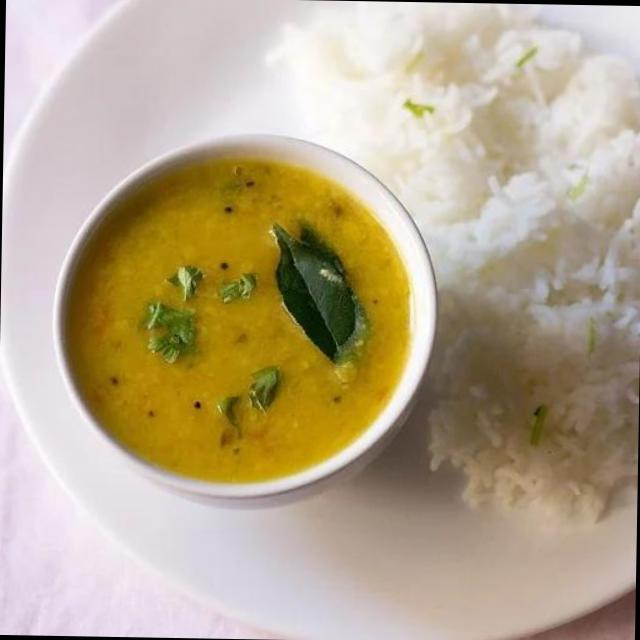dal: (67, 161, 410, 485)
rice: (282, 4, 638, 508)
